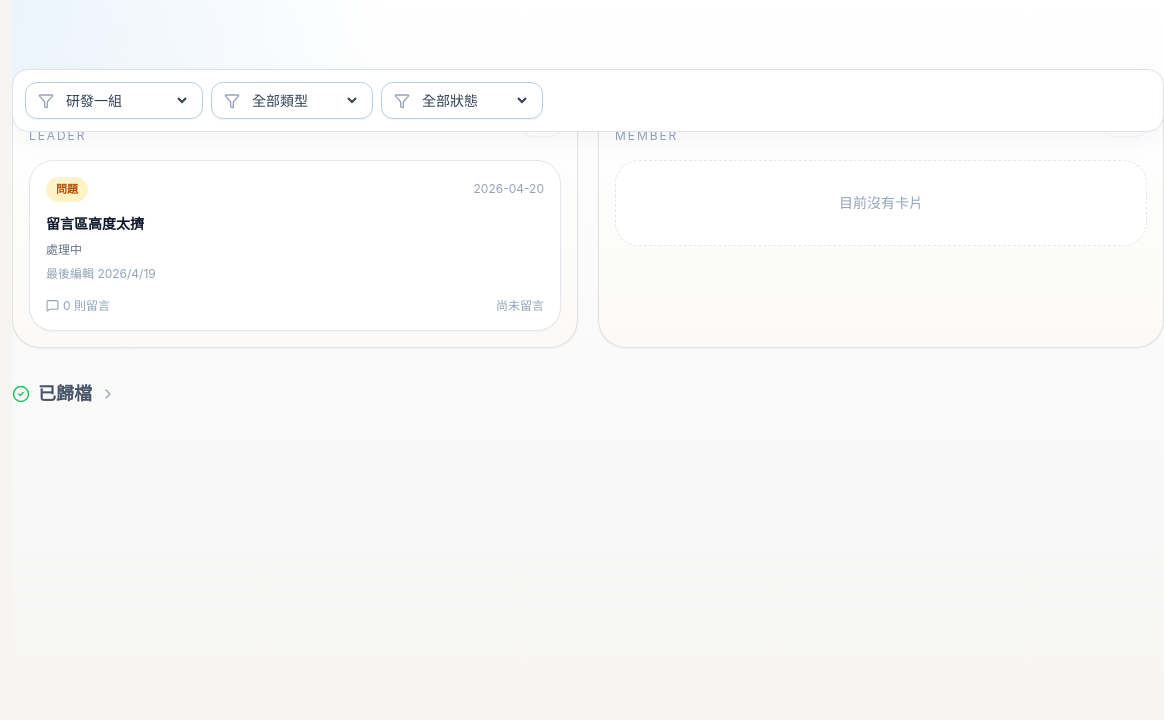
Test: TeamBoard › moves completed cards into the archive section and keeps last edited time visible
Expected: the button "出差審批系統搭建" is not shown
Expected: the text "最後編輯 2026/4/19" is shown, [46,266,156,280]
Click the button "已歸檔" at (64, 394), box [12,380,116,408]
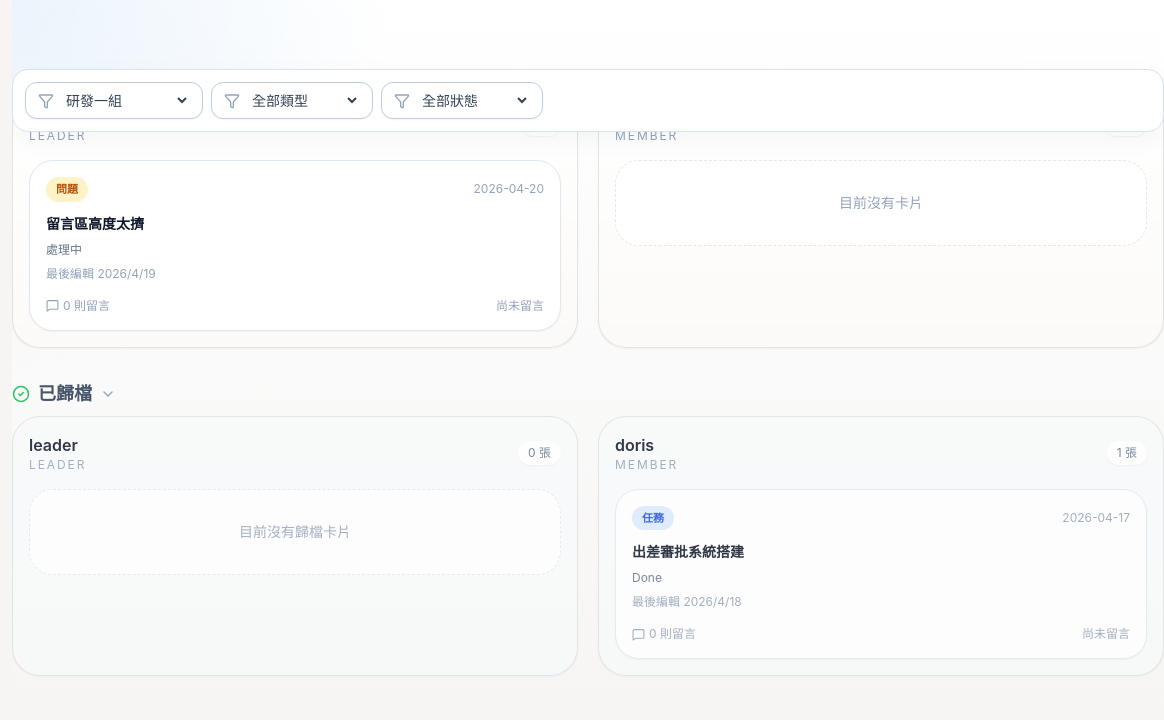
Now the button "任務 2026-04-17 出差審批系統搭建 Done 最後編輯 2026/4/18 0 則留言 尚未留言" is shown, box [615,488,1147,659]
Now the text "最後編輯 2026/4/18" is shown, box [632,594,742,609]
